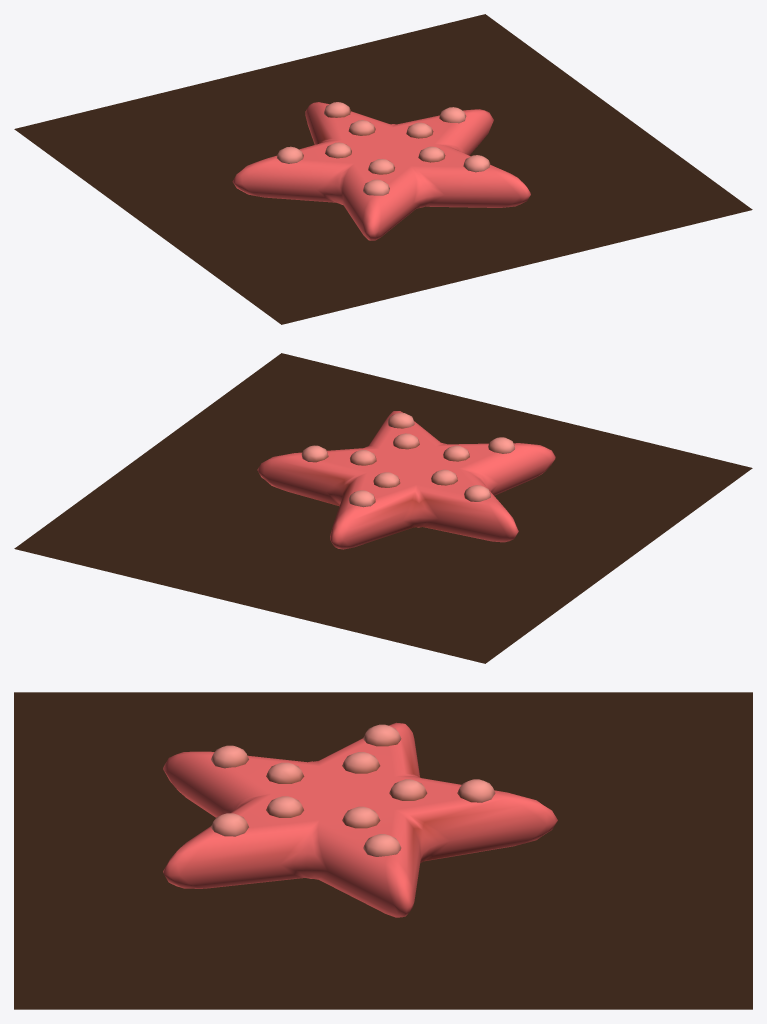
File: prop_starfish.glb
3 renders of one model, top to bottom at view 1: azimuth 30°, elevation 25°; view 2: azimuth 150°, elevation 25°; view 3: azimuth 270°, elevation 25°, orthographic. The views are drawn at different scales.
Parts seen in each view (by area): view 1: baked_shadow, starfish; view 2: baked_shadow, starfish; view 3: baked_shadow, starfish, dot3_32, dot0_32, dot4_32, dot2_32, dot1_32, dot4_16, dot1_16, dot0_16, dot3_16, dot2_16.
Boxes of the visible parts, x1,y1,x2,y2 form: baked_shadow: (14,14,752,324); starfish: (232,102,530,240); baked_shadow: (14,353,752,663); starfish: (257,411,555,549); baked_shadow: (14,692,752,1009); starfish: (163,722,557,917); dot3_32: (211,813,248,836); dot0_32: (457,779,495,802); dot4_32: (363,834,401,856); dot2_32: (211,745,248,768); dot1_32: (363,724,401,746); dot4_16: (342,806,380,828); dot1_16: (342,752,380,773); dot0_16: (389,779,427,800); dot3_16: (266,796,303,817); dot2_16: (266,762,304,783).
Size of the model in its own units: 1.77 by 0.17 by 1.74.
3 materials, 1 textured.
